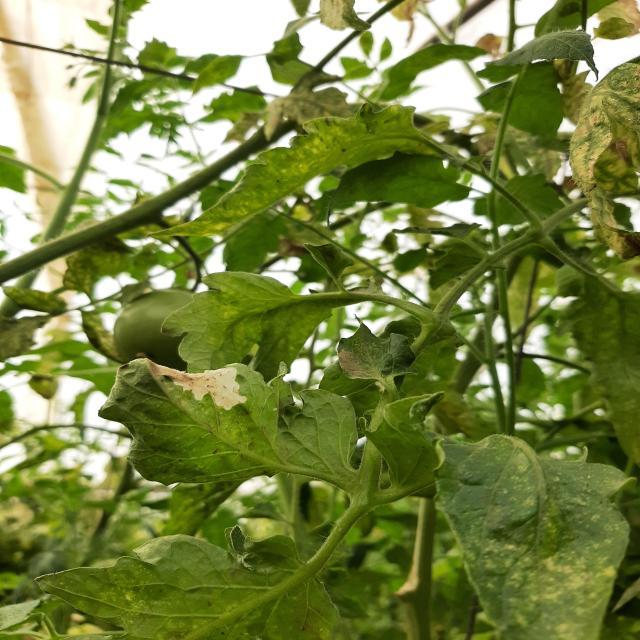Tuta absoluta: (140, 343, 253, 414)
